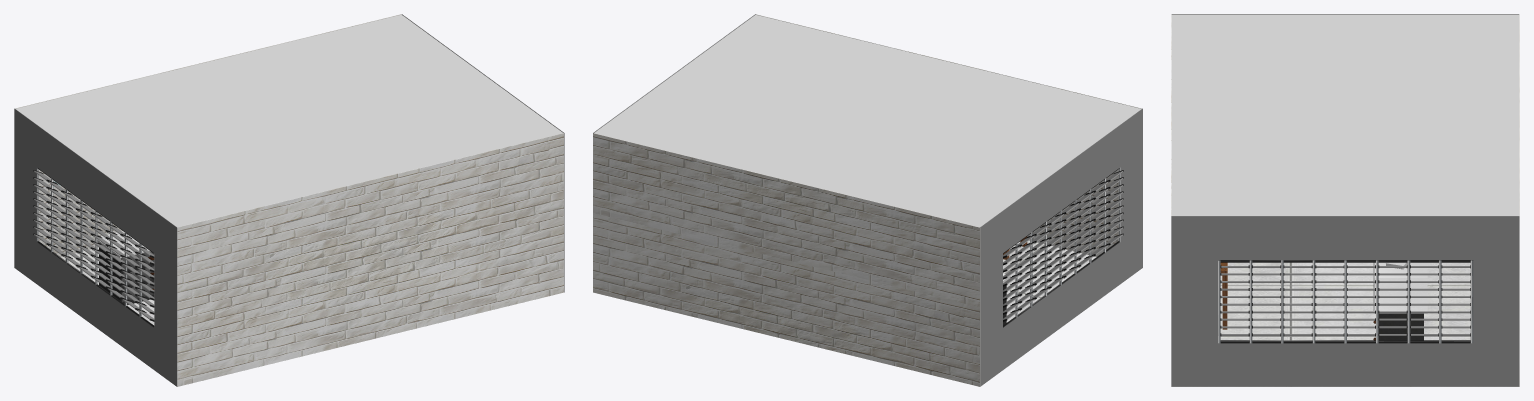
The model's file is chemVR.fbx.
3 views of the same model, side by side, from view 1: azimuth 30°, elevation 25°; view 2: azimuth 150°, elevation 25°; view 3: azimuth 270°, elevation 25° (orthographic). The views are drawn at different scales.
Visible parts, largest first — view 1: middle_wall001, ceiling, side_wall, middle_wall, counter_leftend, base; view 2: middle_wall, ceiling, side_wall, middle_wall001, base; view 3: ceiling, side_wall, base, counter_rightend, window_bottom001, window_top001, counter_middle003, middle_wall, table, window_side011, window_side013, window_side016 (+1 smaller).
Boxes of the visible parts, x1,y1,x2,y2 form: middle_wall001: (177,133,563,386); ceiling: (16,14,562,227); side_wall: (14,14,564,386); middle_wall: (15,14,401,256); counter_leftend: (95,231,154,304); base: (61,247,154,325); middle_wall: (593,133,980,386); ceiling: (594,15,1141,227); side_wall: (593,14,1142,386); middle_wall001: (756,14,1141,256); base: (1003,240,1096,322); ceiling: (1172,14,1518,215); side_wall: (1171,14,1519,386); base: (1172,262,1518,386); counter_rightend: (1373,278,1427,340); window_bottom001: (1220,340,1470,343); window_top001: (1218,260,1472,262); counter_middle003: (1373,262,1427,278); middle_wall: (1519,14,1519,386); table: (1220,262,1227,329); window_side011: (1470,260,1473,343); window_side013: (1312,260,1315,343); window_side016: (1407,260,1410,343).
Bounding box in the file's own units: 901 × 346 × 641.
